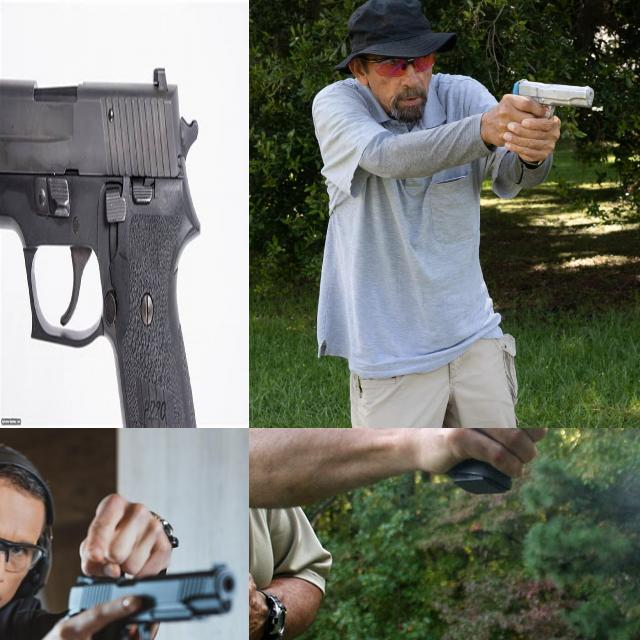handgun: (0, 65, 202, 427), (436, 428, 640, 522), (54, 559, 238, 640), (512, 74, 598, 128)
